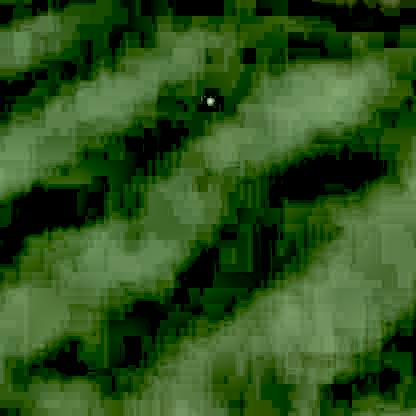golfball: (204, 94, 209, 101)
